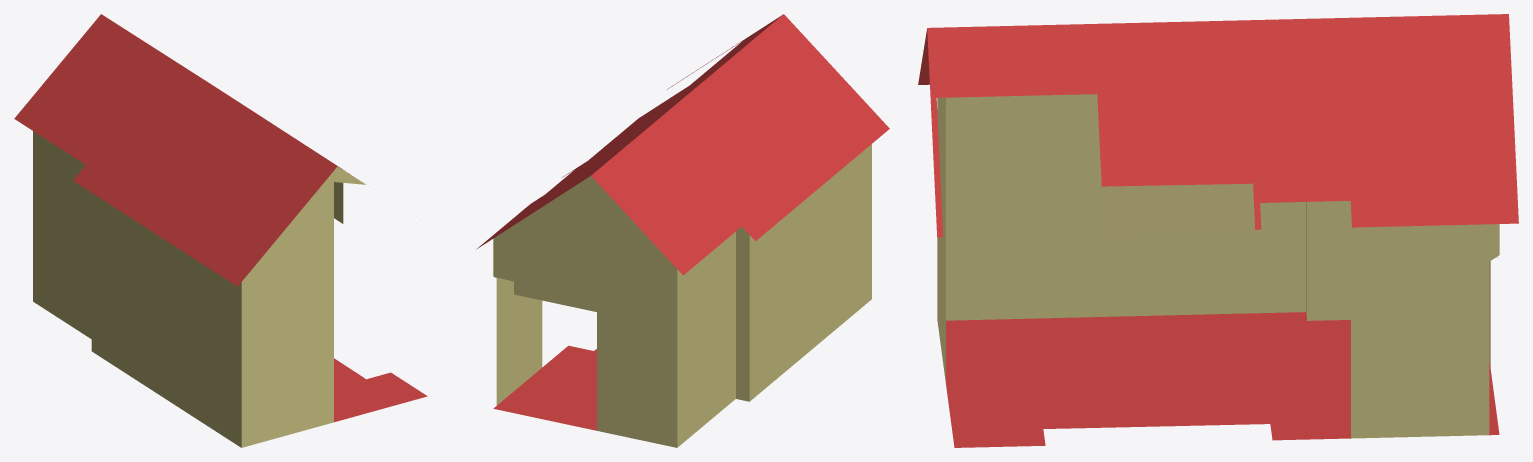
3 views of the same model, side by side, from view 1: azimuth 30°, elevation 25°; view 2: azimuth 150°, elevation 25°; view 3: azimuth 270°, elevation 25° (orthographic). The views are drawn at different scales.
Bounding box in the file's own units: 14.7 × 24.52 × 15.93.
